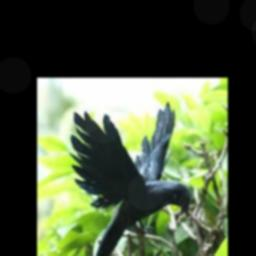Crow: (70, 101, 191, 256)
